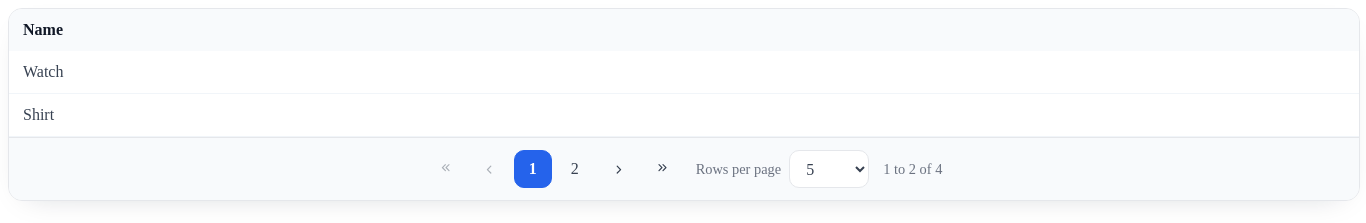
Scenario: DataTable › paginates on client side
Expected: the text "Watch" is shown, [9,51,1359,94]
Expected: the text "Controller" is not shown
Click the button named "Next page".
click(619, 169)  # box [600,150,638,188]
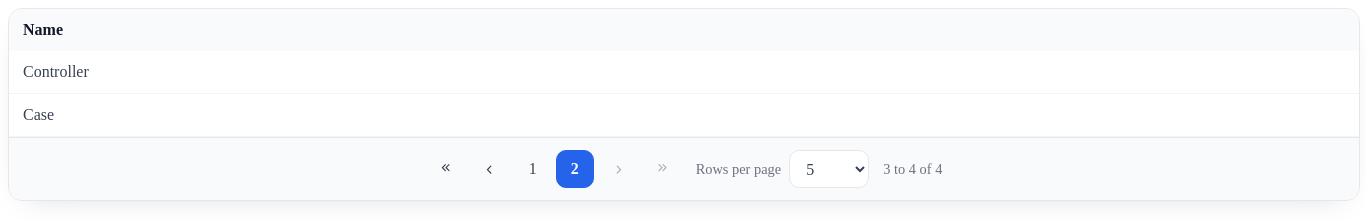
Expected: the text "Controller" is shown, [9,51,1359,94]
